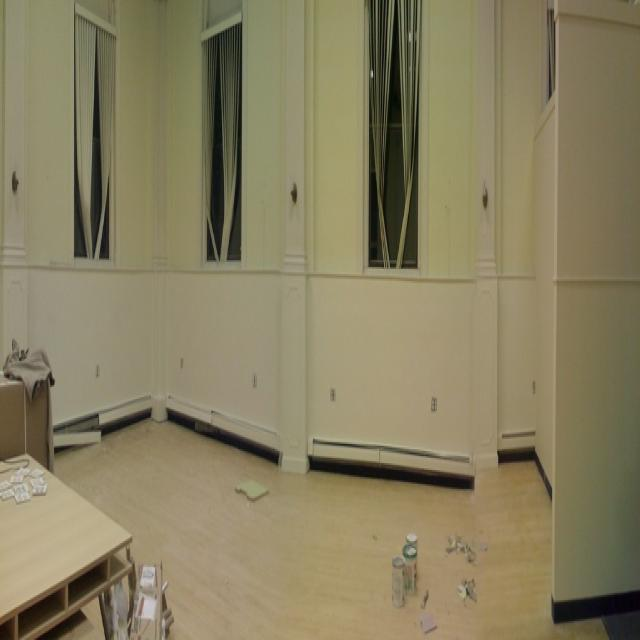desk: (6, 407, 123, 639)
